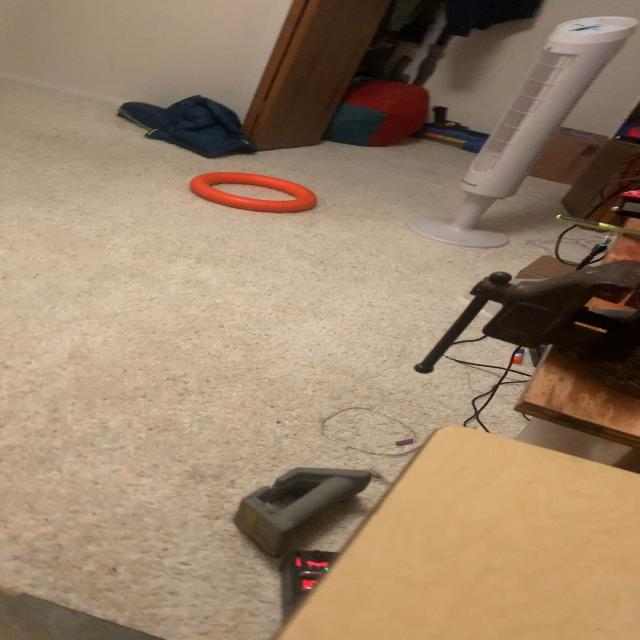notes: (190, 175, 314, 215)
